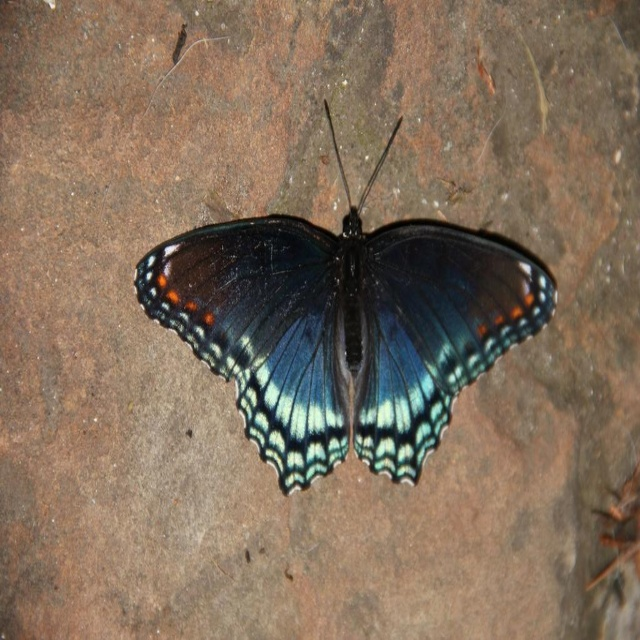Butterfly: (152, 86, 541, 507)
